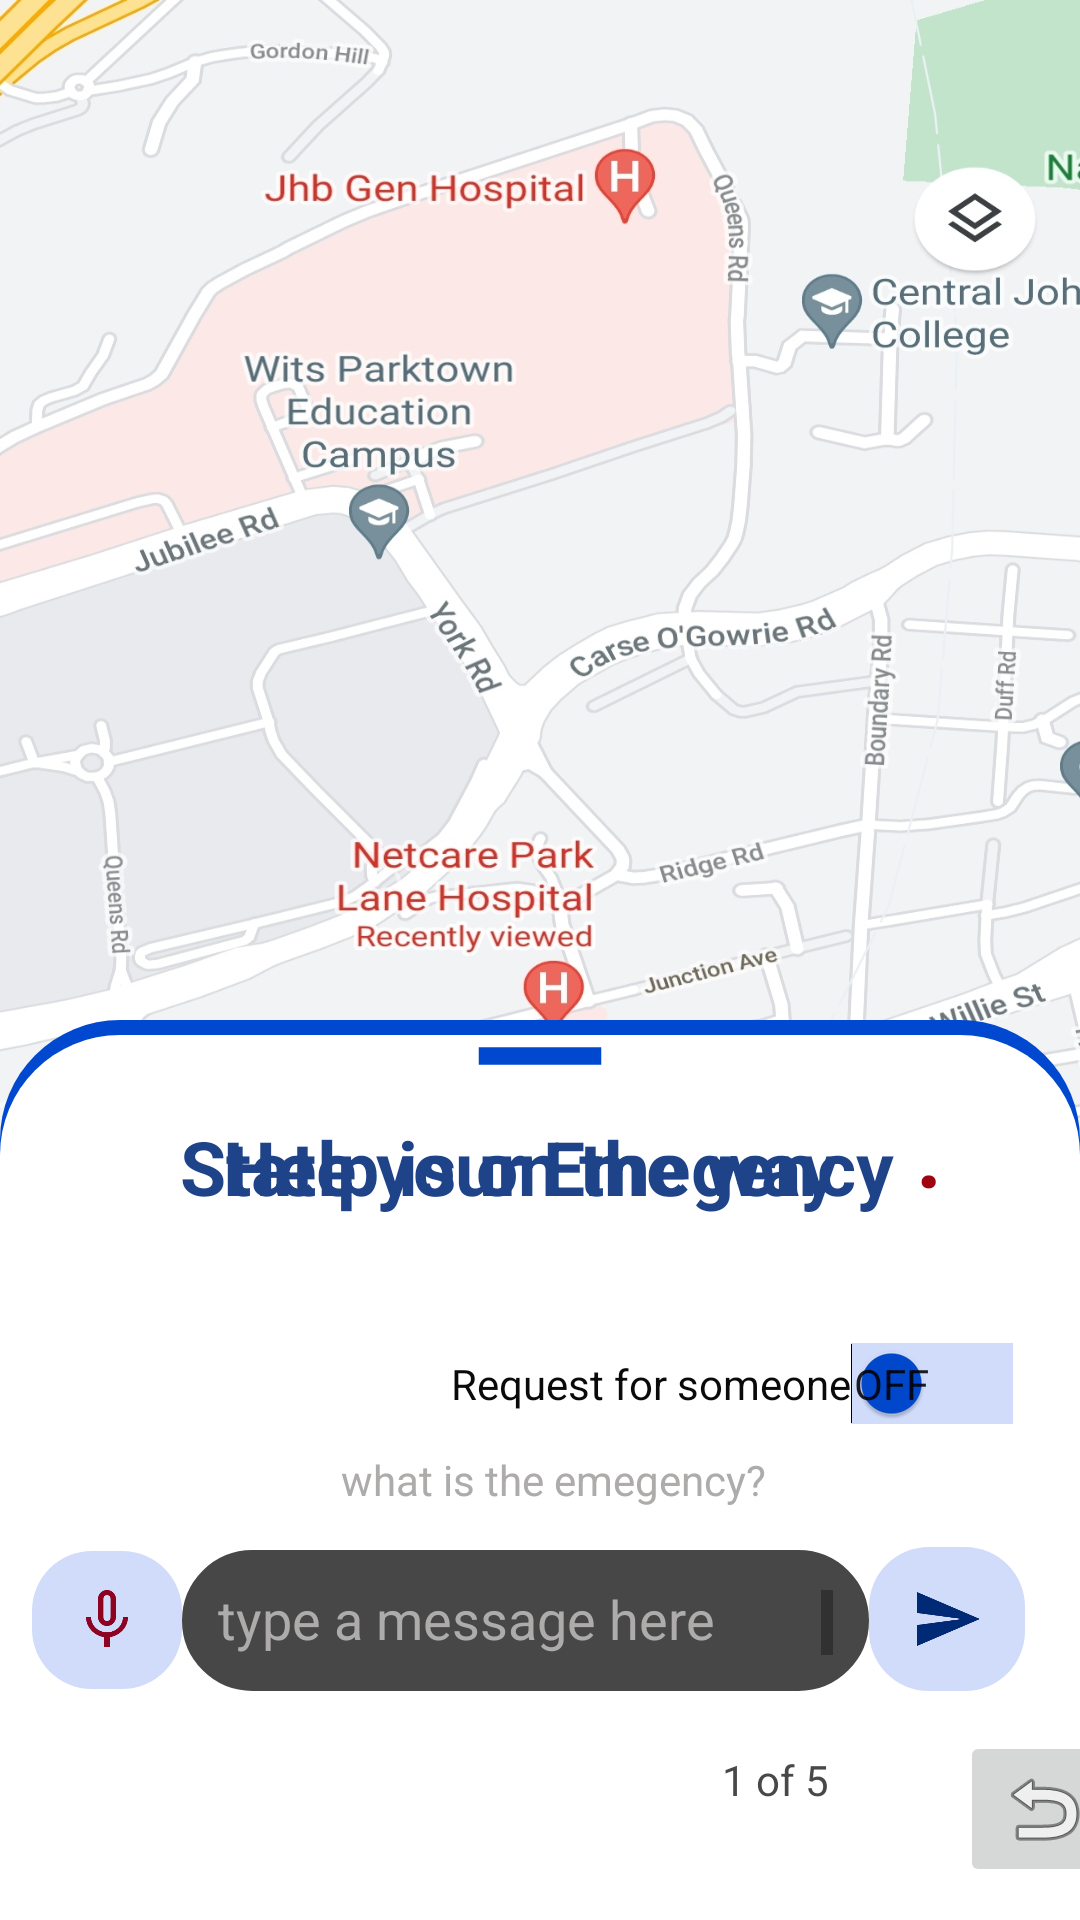

Locate icon controls on the screen. Image size 1080 × 1920, boxes as (x1, y1, x2, y2).
mic none: (32, 1551, 182, 1689)
send: (869, 1547, 1025, 1691)
